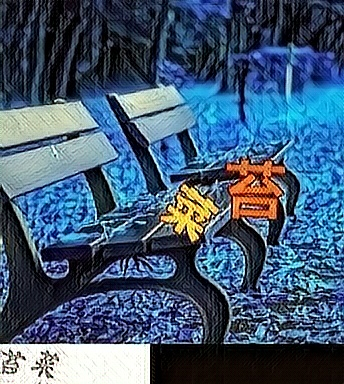B2CB: (159, 180, 221, 244)
CCA6: (224, 155, 286, 219)
